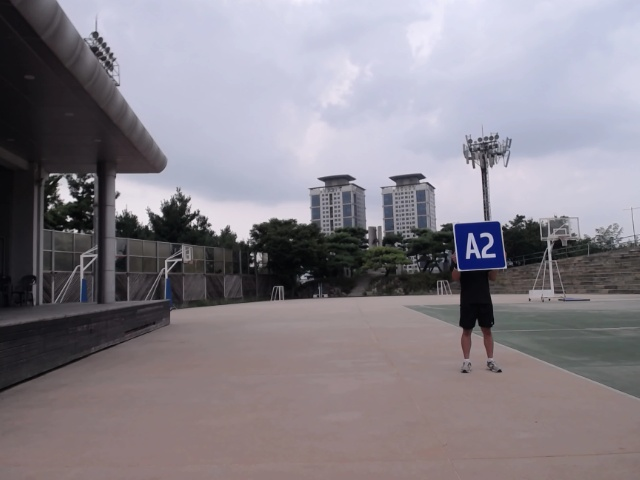delivery_a2: (454, 221, 505, 271)
